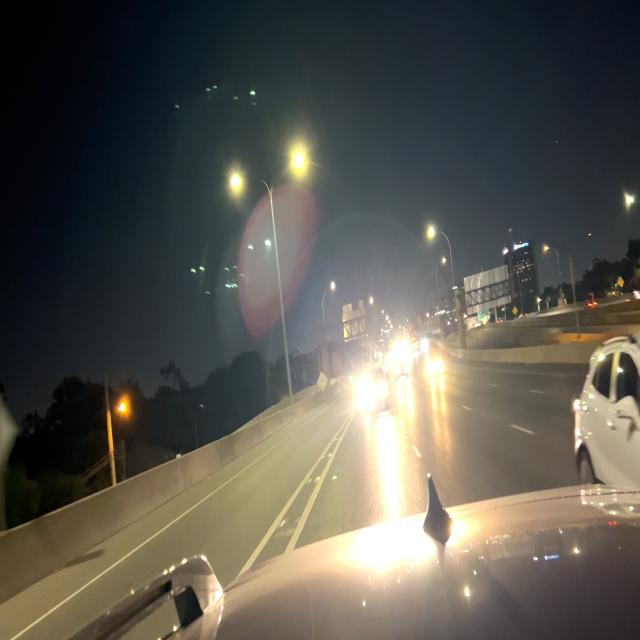back-of-sign: (462, 264, 512, 317), (342, 299, 366, 343), (316, 370, 329, 393)
